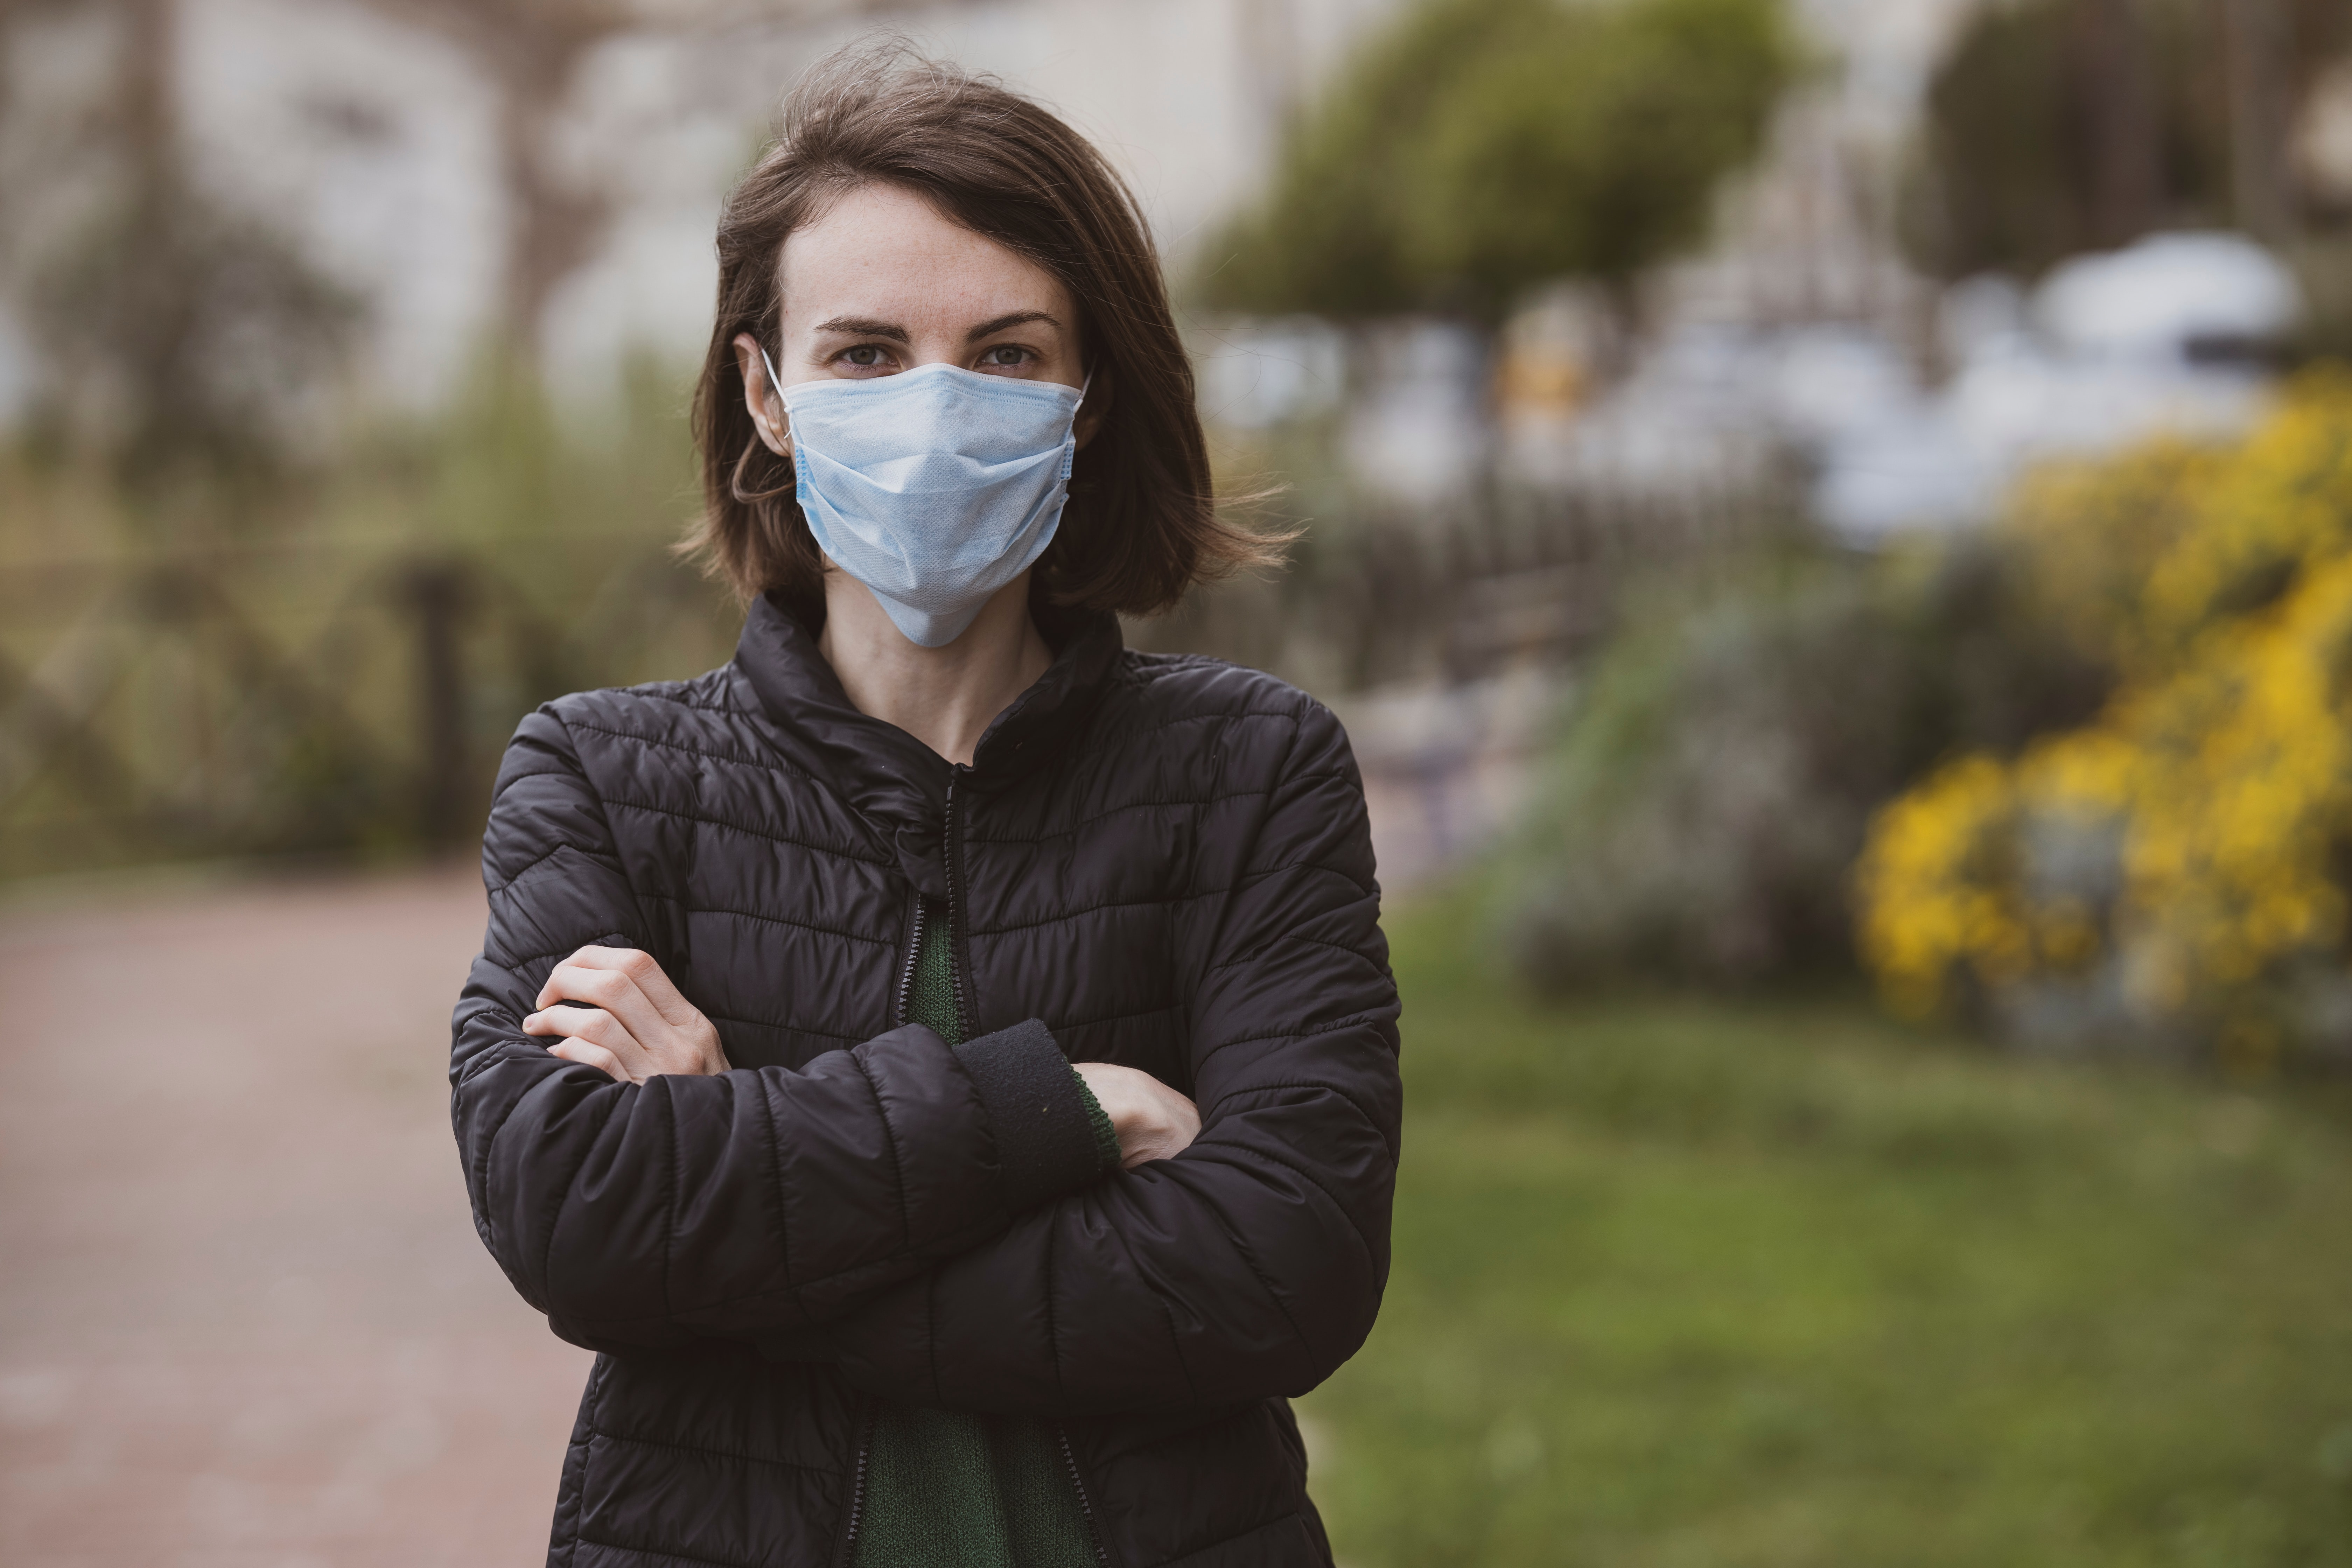mask: (747, 356, 1088, 645)
person: (441, 41, 1456, 1568)
